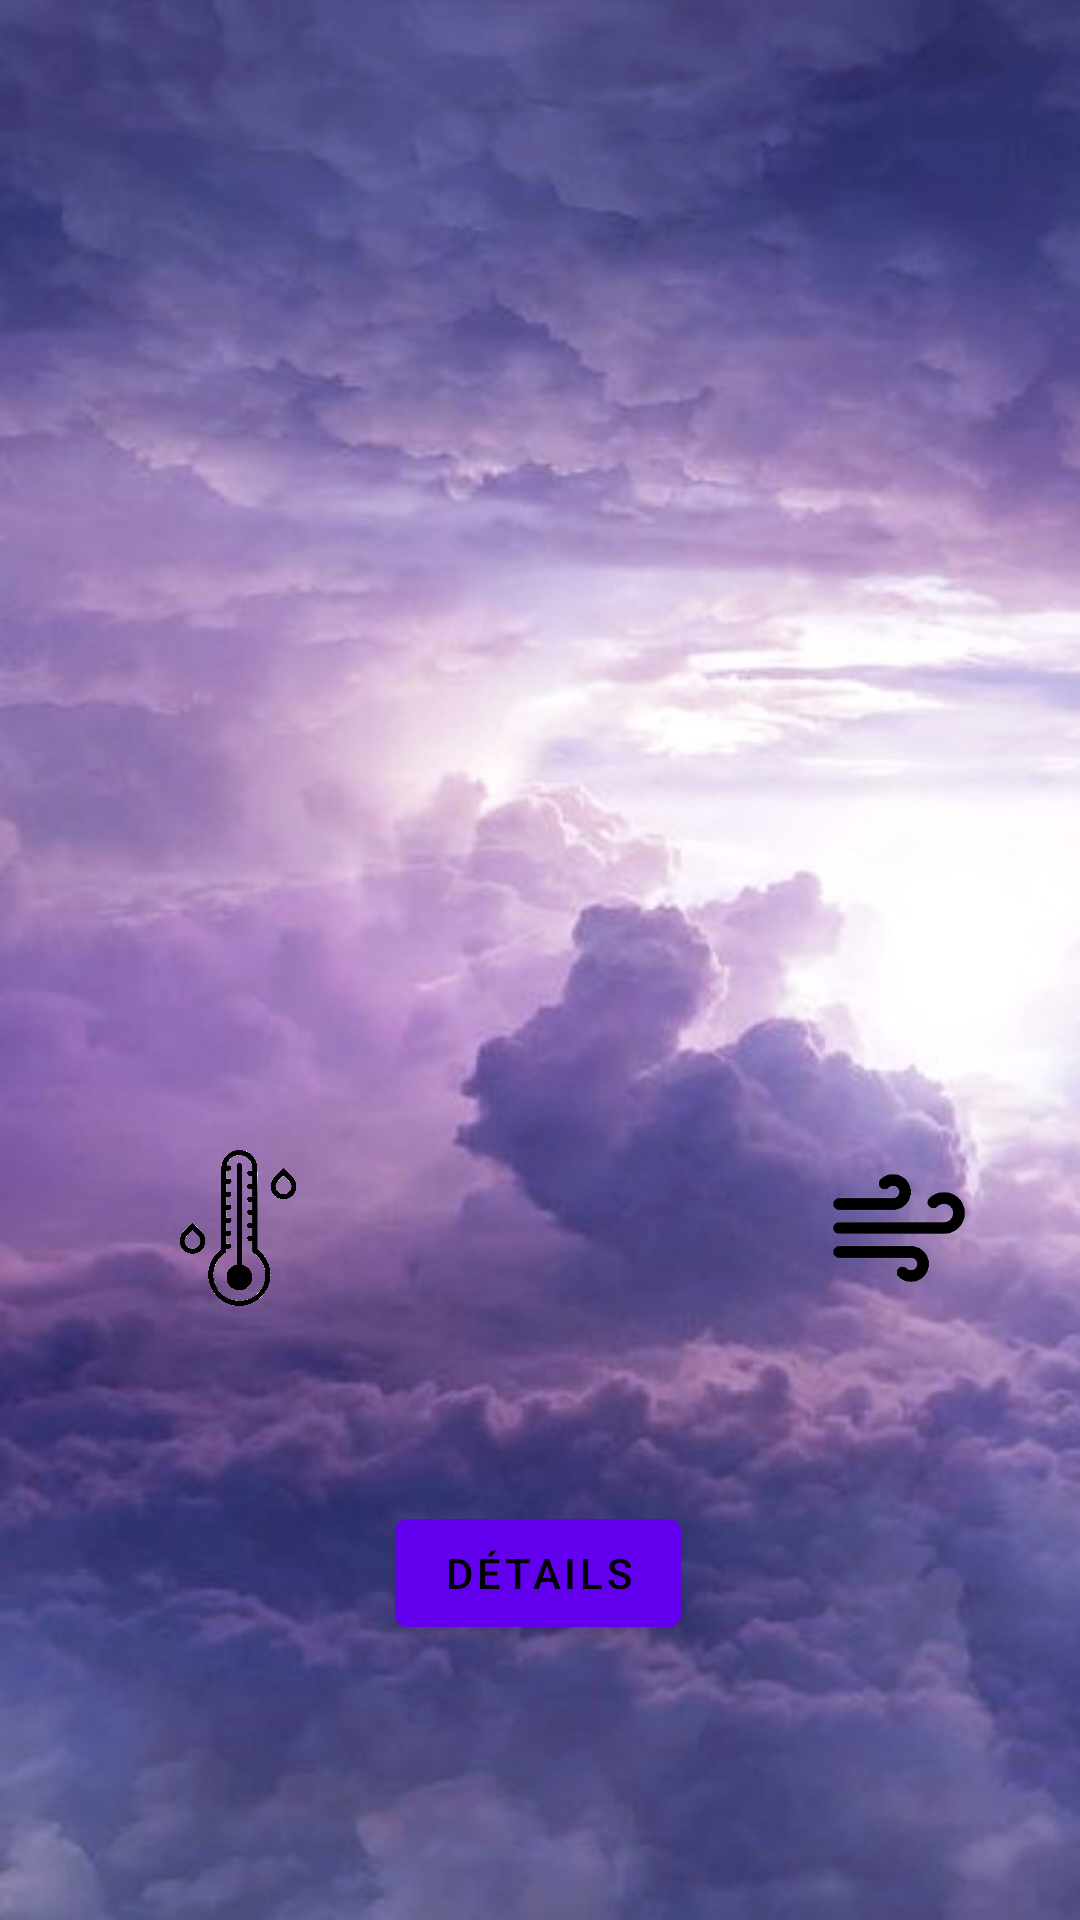

Icon click points for this 1080*1920 phone screenshot, format (x,y):
temperature: (238,1228)
vent sans fond: (899,1228)
